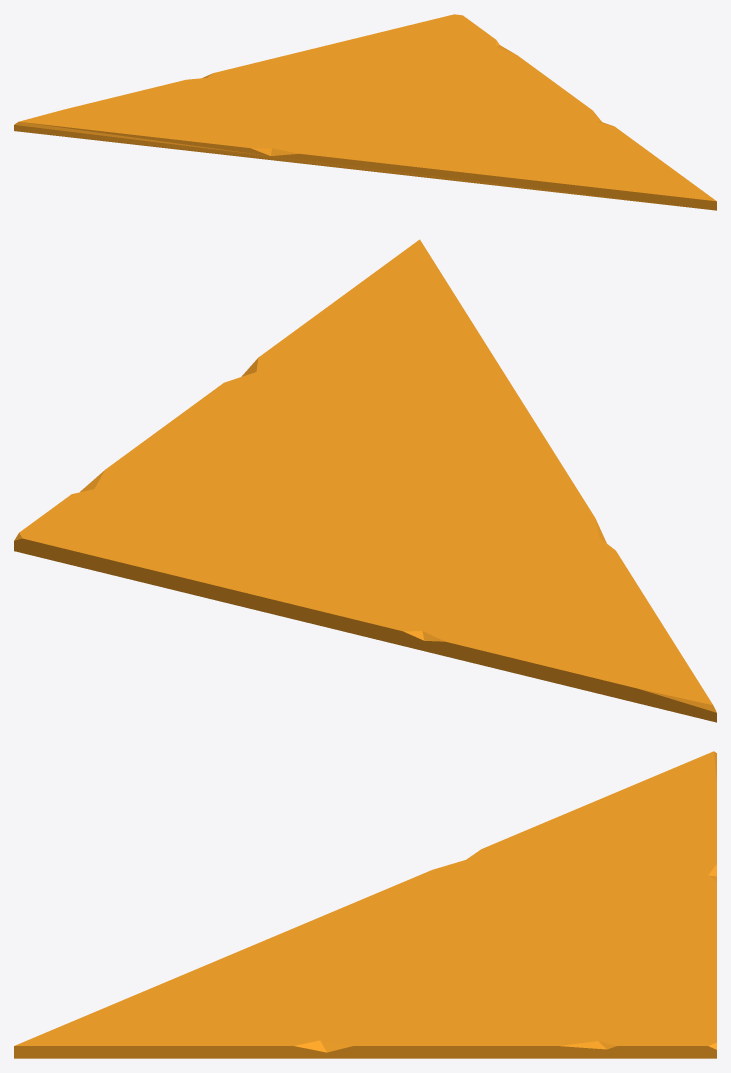
Rendered from SM_Buildings_FloorAngle_5x5_01P.fbx.
3 renders of one model, top to bottom at view 1: azimuth 30°, elevation 25°; view 2: azimuth 150°, elevation 25°; view 3: azimuth 270°, elevation 25°, orthographic. The views are drawn at different scales.
Parts seen in each view (by area): view 1: SM_Buildings_FloorAngle_5x5_01P; view 2: SM_Buildings_FloorAngle_5x5_01P; view 3: SM_Buildings_FloorAngle_5x5_01P.
Boxes of the visible parts, x1,y1,x2,y2 form: SM_Buildings_FloorAngle_5x5_01P: (14, 14, 716, 210); SM_Buildings_FloorAngle_5x5_01P: (14, 239, 716, 722); SM_Buildings_FloorAngle_5x5_01P: (14, 751, 716, 1058).
Size of the model in its own units: 500 by 10 by 500.
